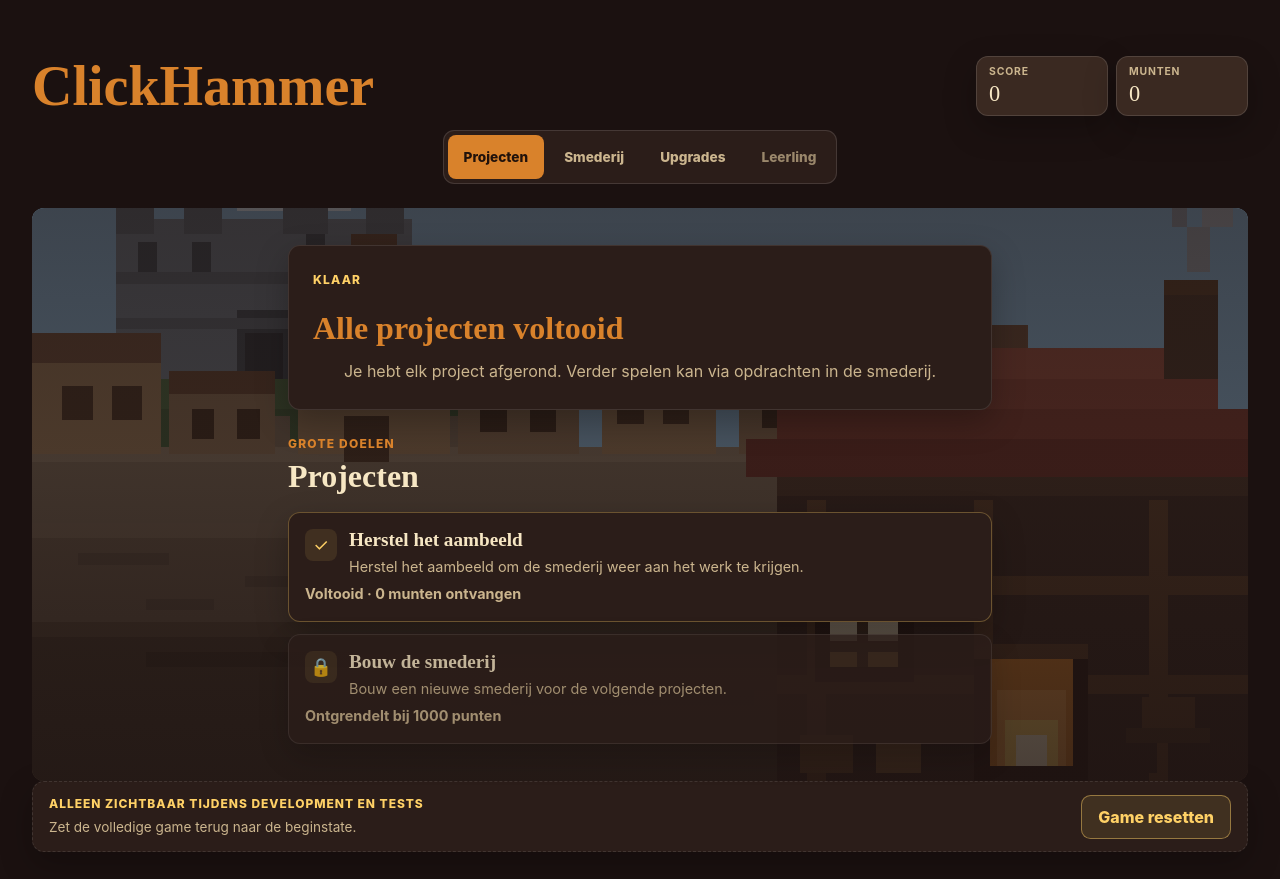
Test: App › switches between projects, smithy and upgrades
Click the tab with class "game-navigation__tab" showing "Smederij" at (594, 157), box [548,135,640,179]
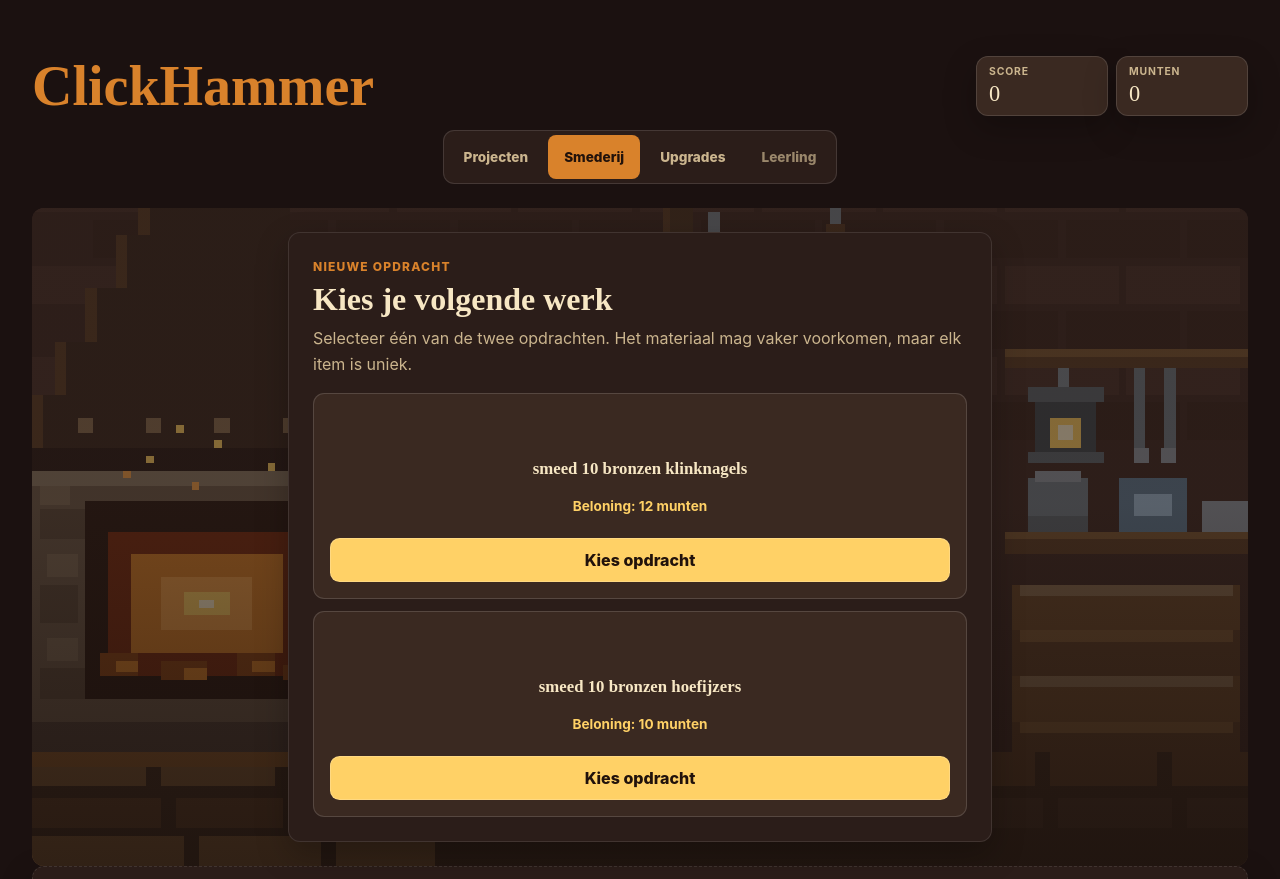
expect the element that starts with "Nieuwe opdracht" is shown: met, box [288,232,992,842]
Click the tab with class "game-navigation__tab" showing "Upgrades" at (693, 157), box [644,135,742,179]
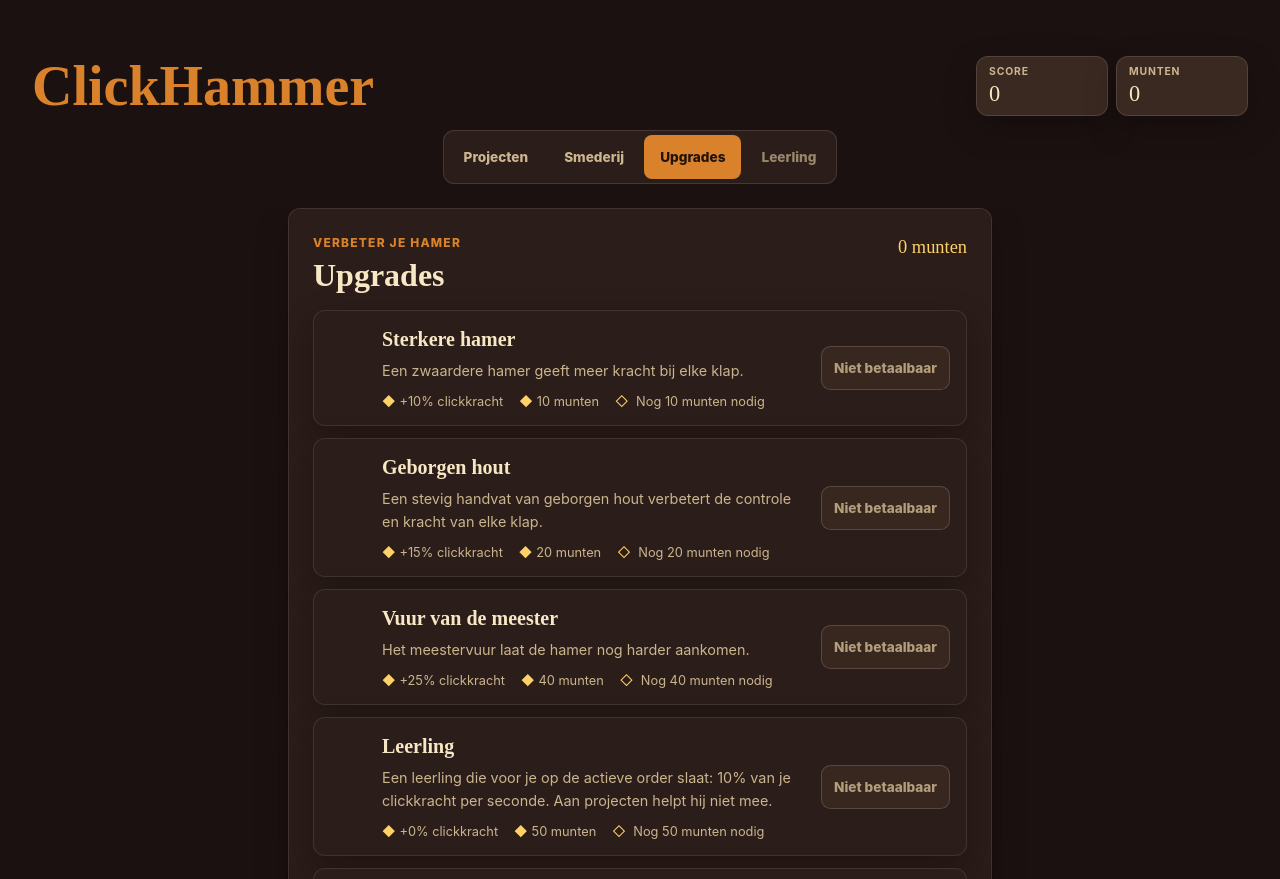
expect the header is shown: met, box [32,56,1248,118]
Click the tab with class "game-navigation__tab" showing "Projecten" at (496, 157), box [448,135,544,179]
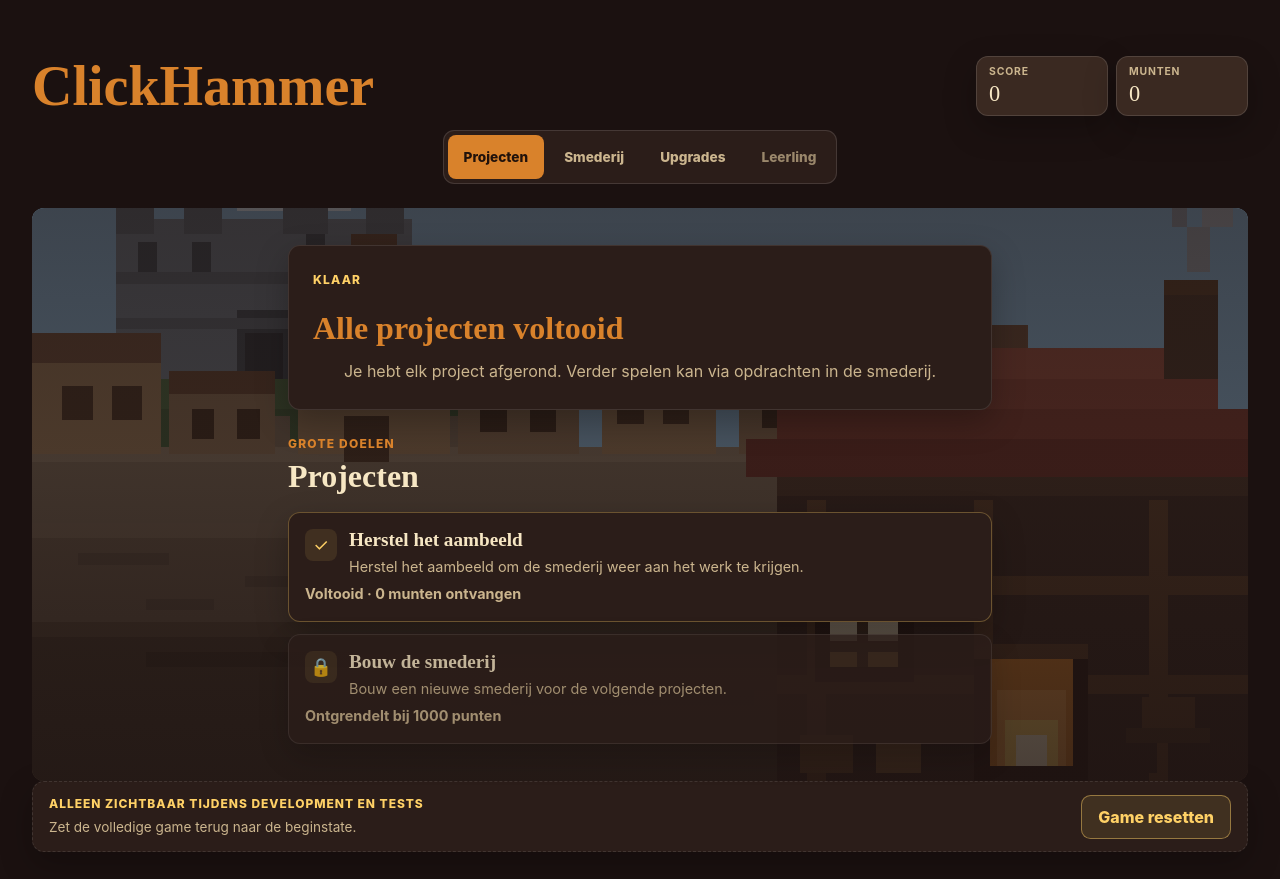
expect the element that starts with "Grote doelen" is shown: met, box [288,434,992,744]
